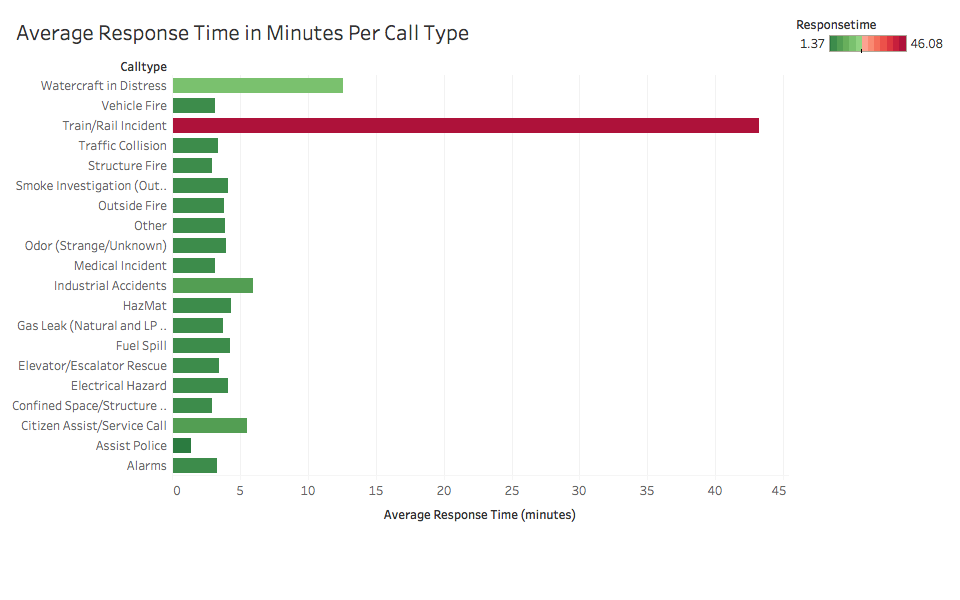

Layout of this report page (visuals, bound fields, positions):
{"tool":"tableau","page":{"name":"Dashboard 1","canvas":[1560,800],"ordinal":0},"visuals":[{"type":"worksheet","title":"Sheet 1","mark":"Automatic","rows":["Call Type"],"cols":["Neighborhooods - Analysis Boundaries"],"box":[8,8,1544,784]},{"type":"legend","title":"Sheet 1","param":"[federated.0zl60b91ssrl7314vuj1e0ls7oev].[avg:Calculation_735845996843577344:qk]","box":[1387,16,130,76]}]}

Visuals, with their boxes on the page's 1560x800 design canvas (x1, y1, x2, y2). These are canvas units, not pixel positions in the 960x600 screenshot, which may show the page scaled, cropped or inside an application window:
"Sheet 1" worksheet: bbox(8, 8, 1552, 792)
"Sheet 1" legend: bbox(1387, 16, 1517, 92)
